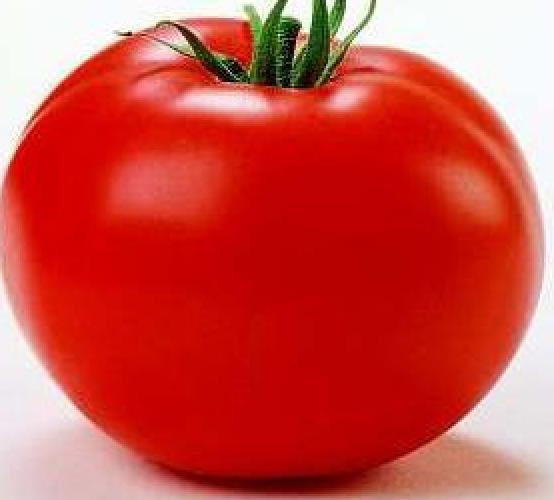tomato: (7, 15, 538, 489)
